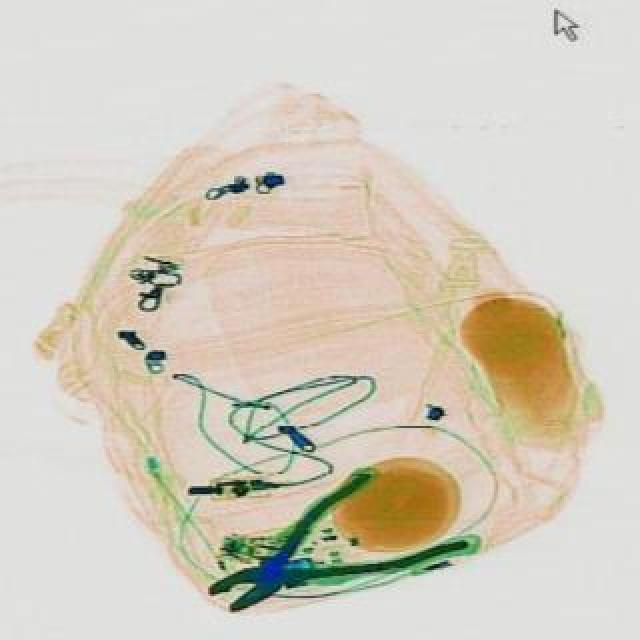wrench: (186, 458, 434, 638)
